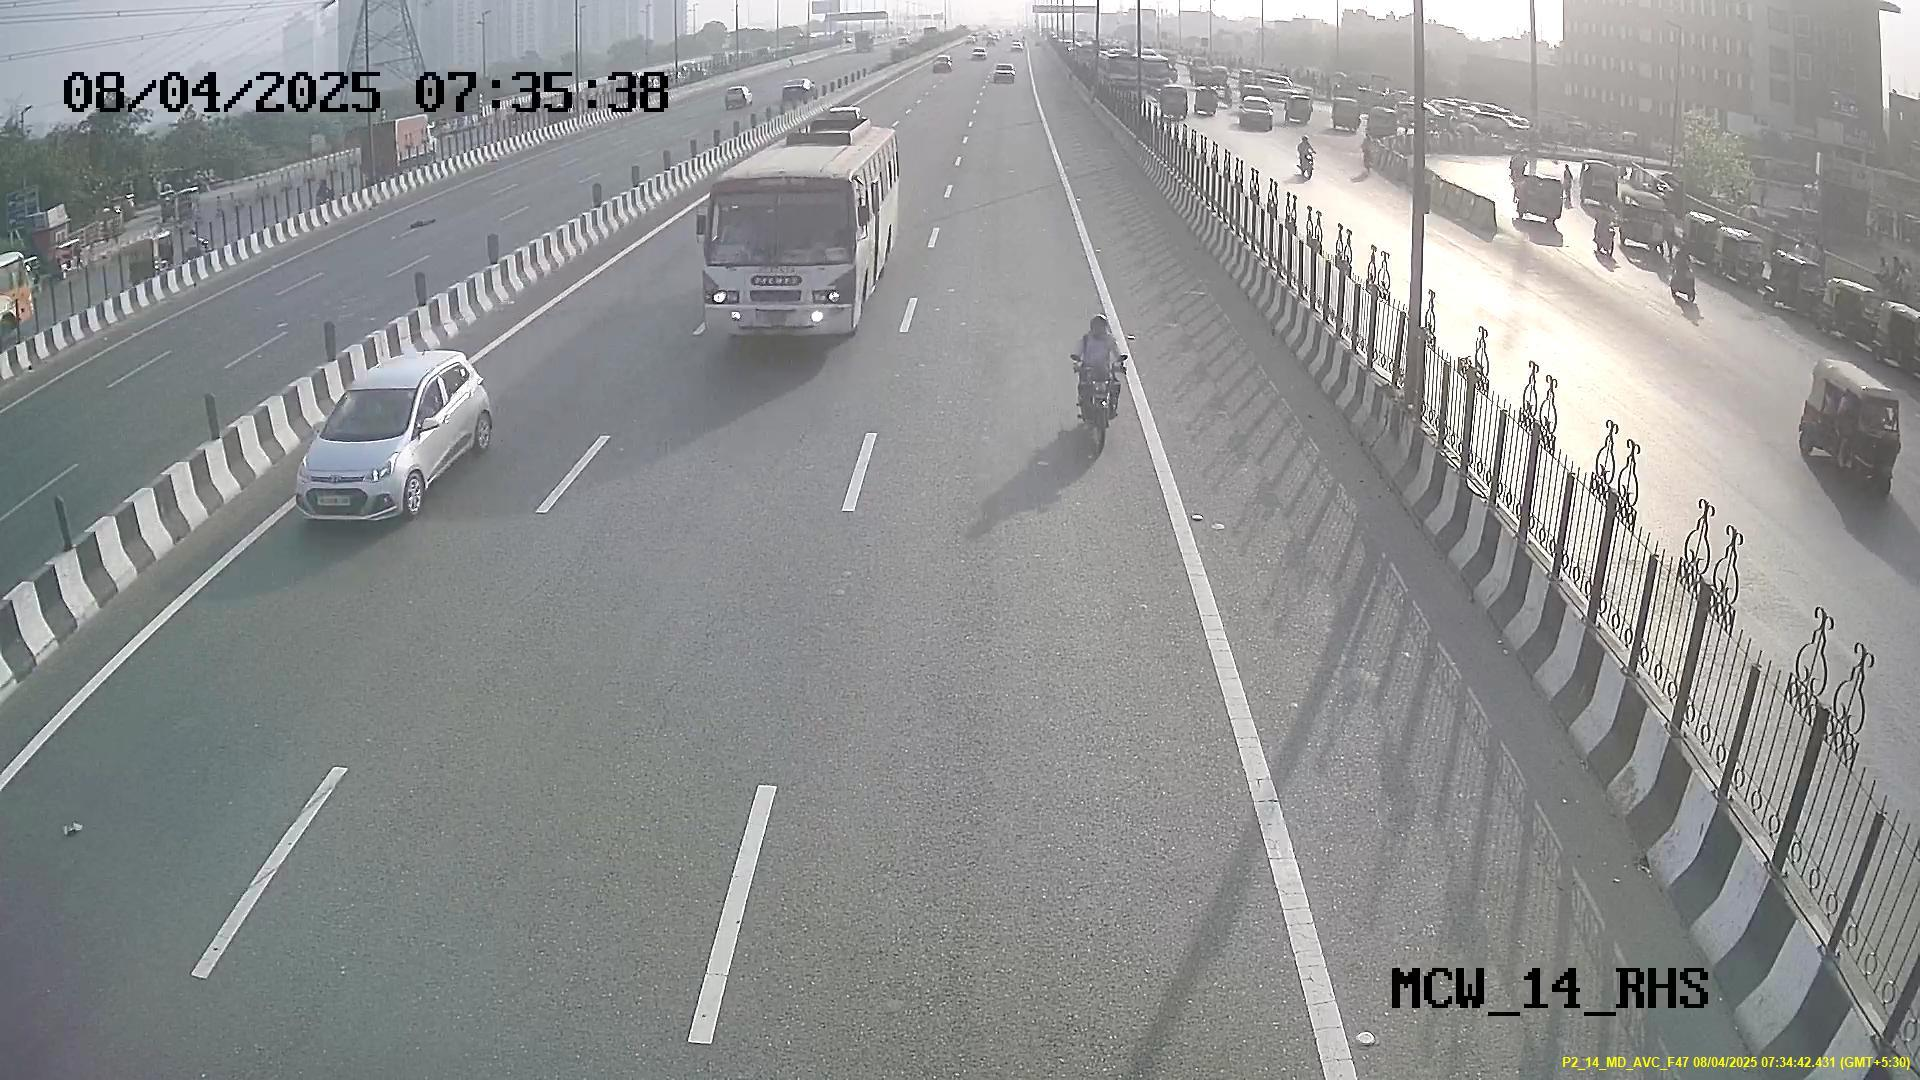bike: (1068, 305, 1129, 444)
bus: (700, 132, 893, 344)
car: (298, 361, 447, 530)
